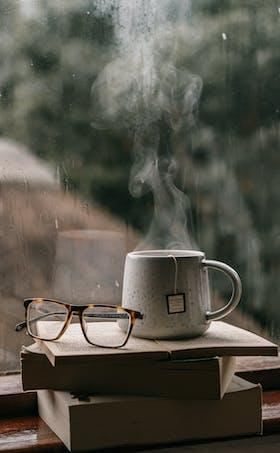Mug: (109, 224, 252, 348)
